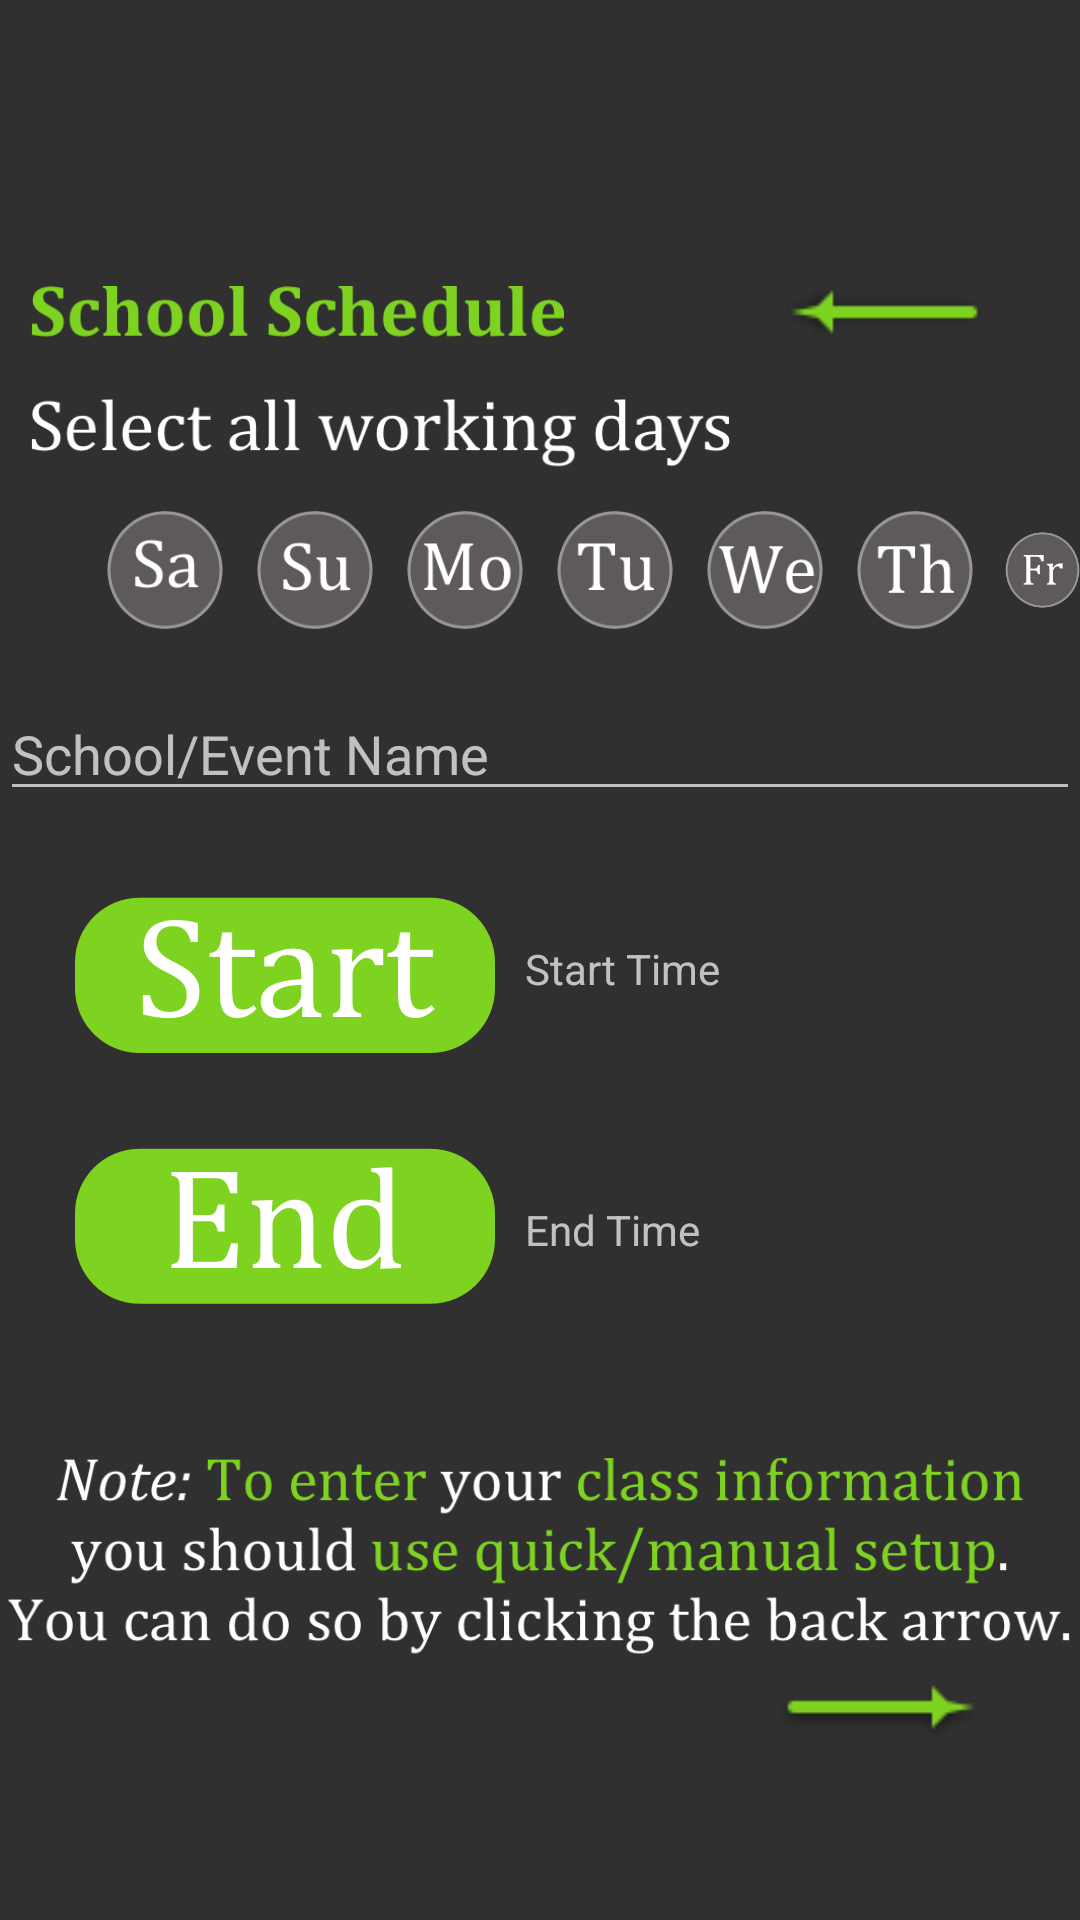

Named icons in this screenshot (1080 × 1920) and their centers, [x,y]:
next page: [879,1706]
